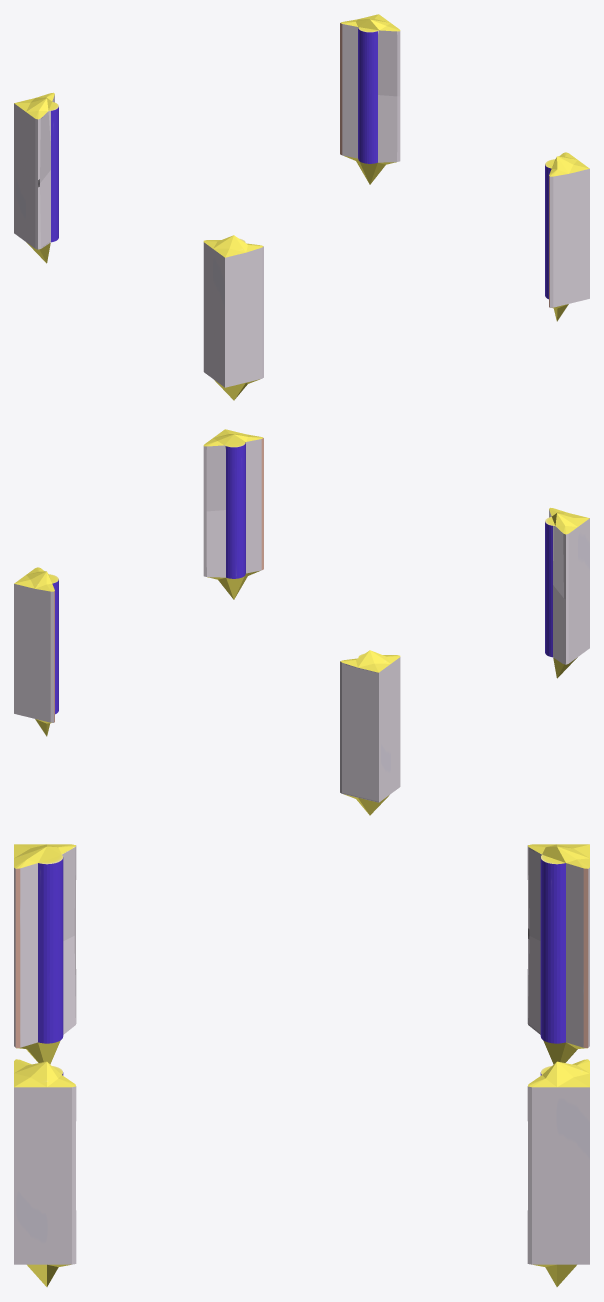
File: Ramp_1.fbx
3 renders of one model, top to bottom at view 1: azimuth 30°, elevation 25°; view 2: azimuth 150°, elevation 25°; view 3: azimuth 270°, elevation 25°, orthographic. The views are drawn at different scales.
Visible parts, largest first — view 1: C_lamp; view 2: C_lamp; view 3: C_lamp.
Part boxes in pixels (bbox=[...]): C_lamp: bbox=[14, 14, 589, 400]; C_lamp: bbox=[14, 429, 589, 815]; C_lamp: bbox=[14, 844, 589, 1286].
Bounding box in the file's own units: 1673 × 726 × 1677.
1 material, 1 textured.
